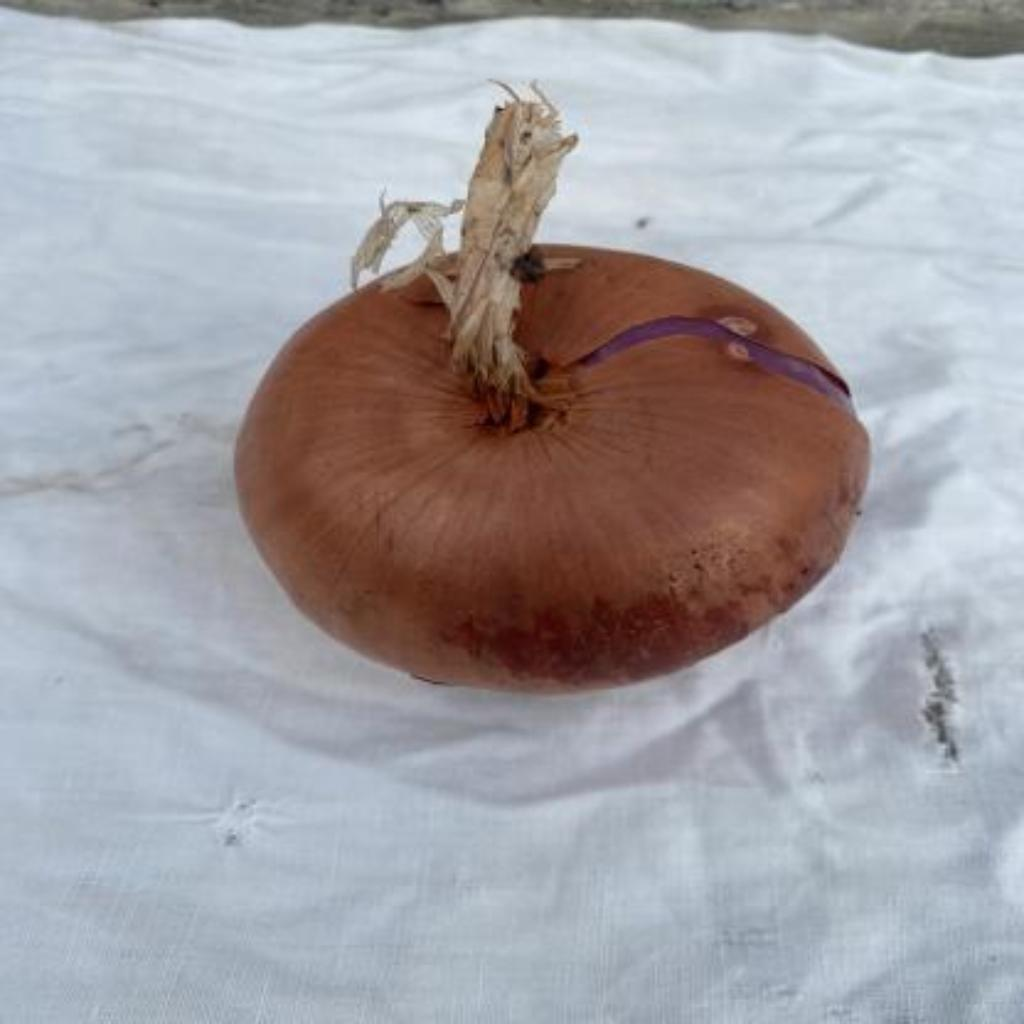Onion: (236, 89, 871, 690)
